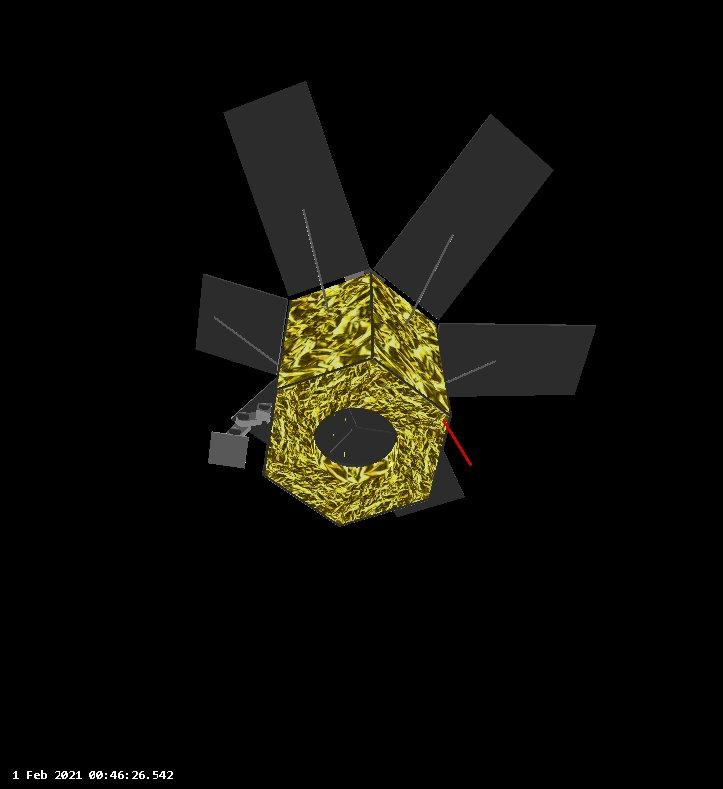antenna: (441, 414, 474, 468)
body: (259, 269, 449, 530)
solar: (371, 111, 558, 322), (222, 80, 372, 298), (433, 322, 600, 400), (193, 273, 291, 376), (387, 441, 469, 519), (229, 373, 278, 447)
